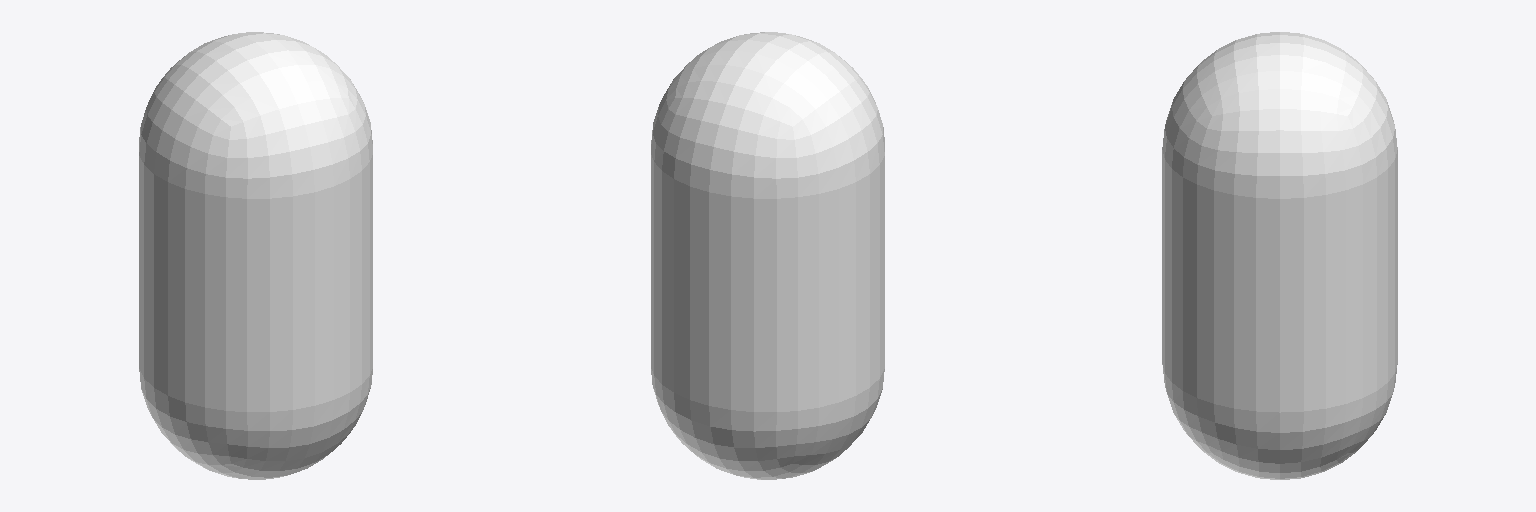
The model's file is unityexport.obj.
3 views of the same model, side by side, from view 1: azimuth 30°, elevation 25°; view 2: azimuth 150°, elevation 25°; view 3: azimuth 270°, elevation 25° (orthographic).
Parts seen in each view (by area): view 1: Player; view 2: Player; view 3: Player.
Part boxes in pixels (x1,y1,x2,y2): Player: (139, 32, 372, 479); Player: (651, 32, 884, 479); Player: (1162, 32, 1397, 479).
Bounding box in the file's own units: 1 × 2 × 1.